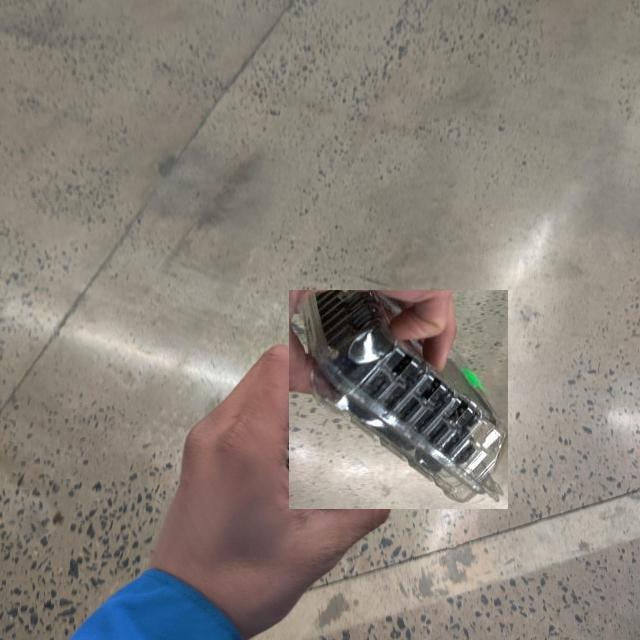Blackberries: (289, 290, 508, 509)
